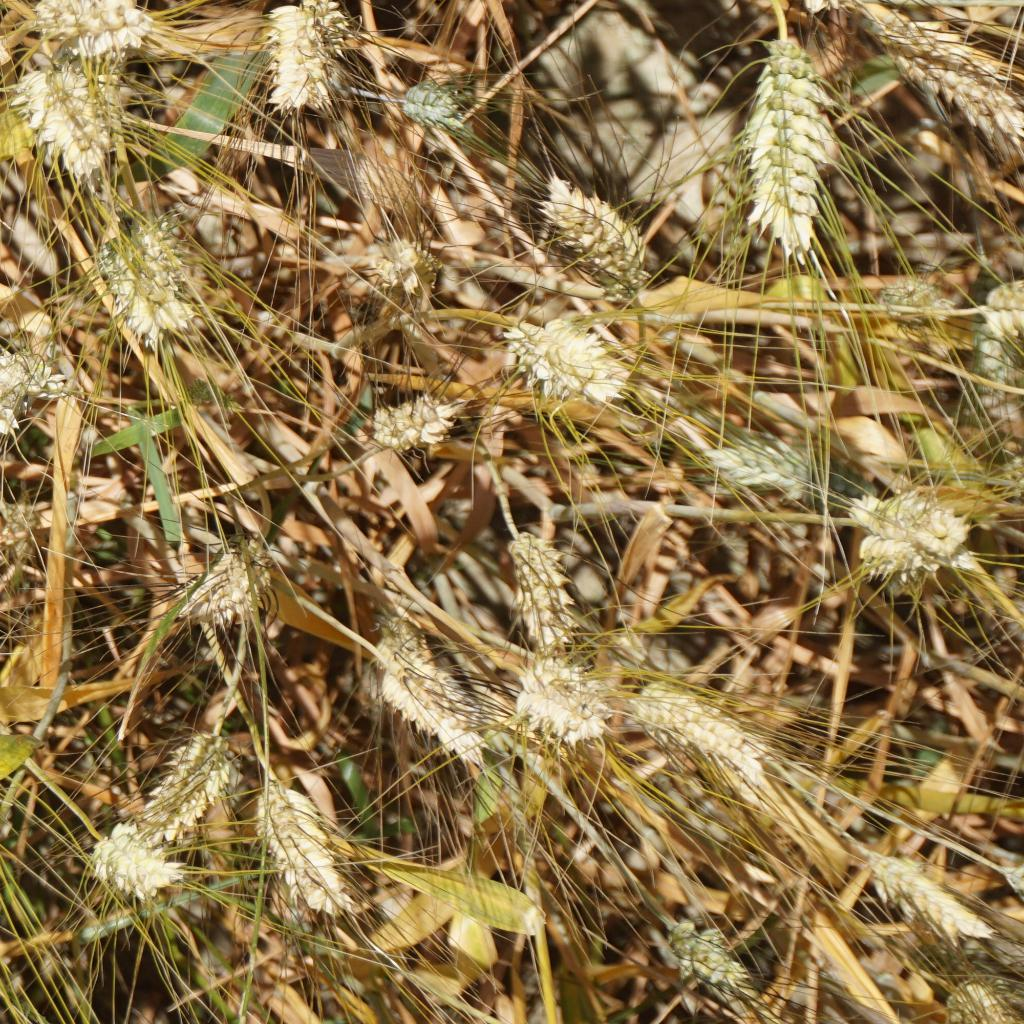0-0: (881, 6, 1022, 156), (737, 27, 831, 246), (641, 683, 800, 797), (377, 626, 496, 777), (246, 768, 359, 918), (856, 838, 1002, 944), (540, 169, 650, 299), (105, 204, 201, 346), (131, 724, 257, 828), (676, 400, 804, 498), (503, 645, 618, 749), (14, 69, 120, 180), (524, 316, 641, 409), (188, 528, 285, 635), (76, 817, 188, 906), (846, 487, 966, 564), (505, 534, 581, 647), (33, 0, 169, 57), (270, 4, 340, 114), (0, 334, 64, 447), (667, 913, 753, 995), (371, 393, 456, 471), (960, 323, 1017, 430), (370, 233, 453, 305), (401, 76, 480, 142), (861, 263, 936, 325), (956, 968, 1010, 1024)
